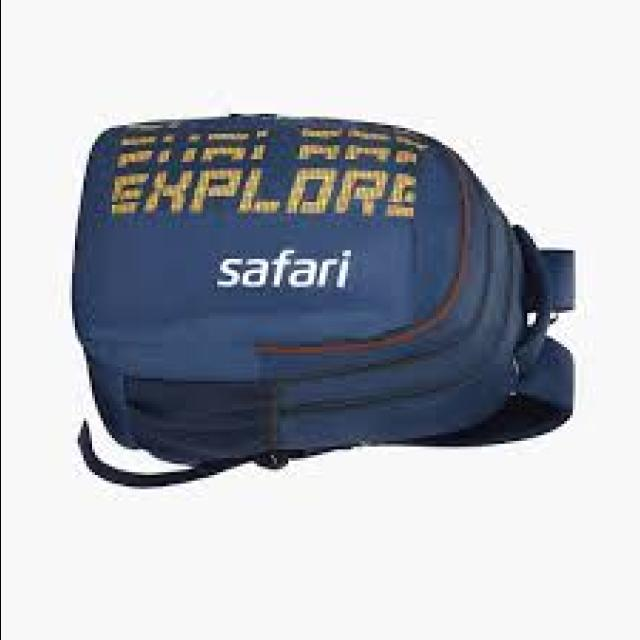backpack: (73, 112, 579, 490)
